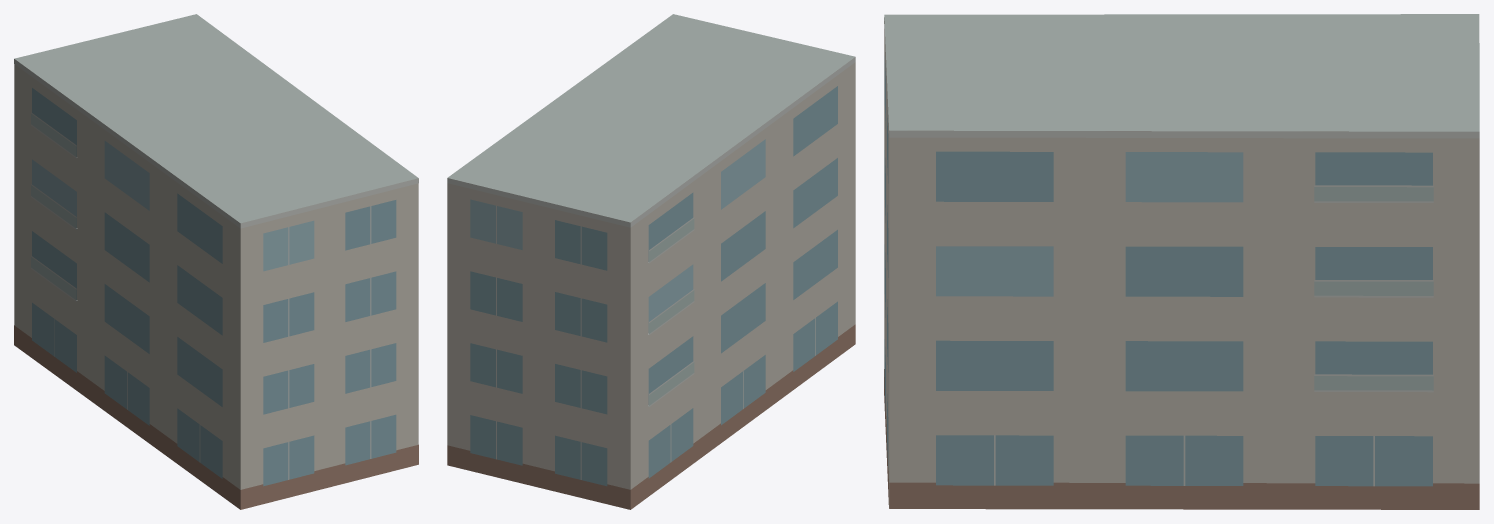
The model's file is survey-upis-32761420.glb.
The picture shows the model from 3 angles, left to right: view 1: azimuth 30°, elevation 25°; view 2: azimuth 150°, elevation 25°; view 3: azimuth 270°, elevation 25°; orthographic projection. The views are drawn at different scales.
Visible parts, largest first — view 1: survey-upis-32761420.tmp; view 2: survey-upis-32761420.tmp; view 3: survey-upis-32761420.tmp.
Part boxes in pixels (x1=…): survey-upis-32761420.tmp: x1=14, y1=14, x2=418, y2=509; survey-upis-32761420.tmp: x1=447, y1=14, x2=855, y2=509; survey-upis-32761420.tmp: x1=884, y1=14, x2=1479, y2=509.
Size of the model in its own units: 9.11 by 13.55 by 19.35.
